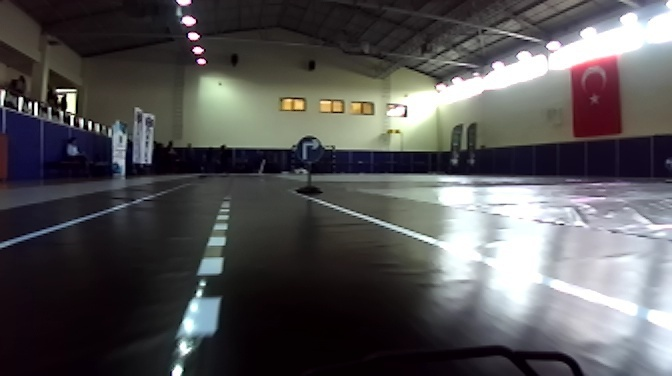saga_donus: (295, 137, 323, 165)
